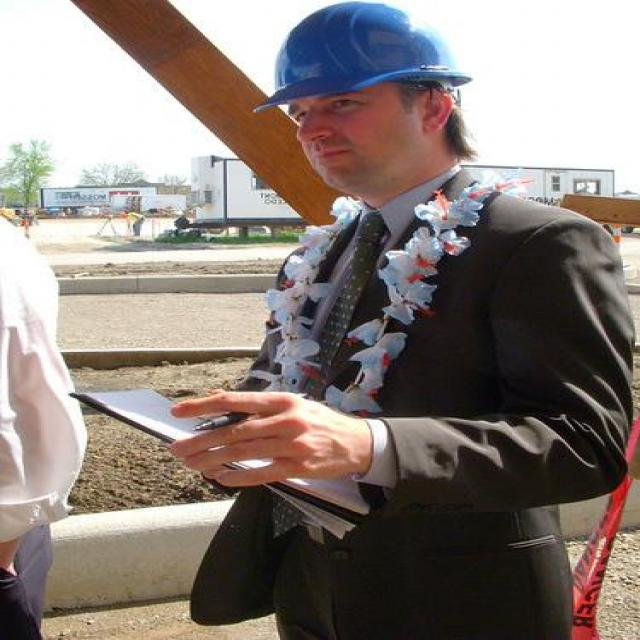Safety-Helmet: (249, 1, 478, 118)
